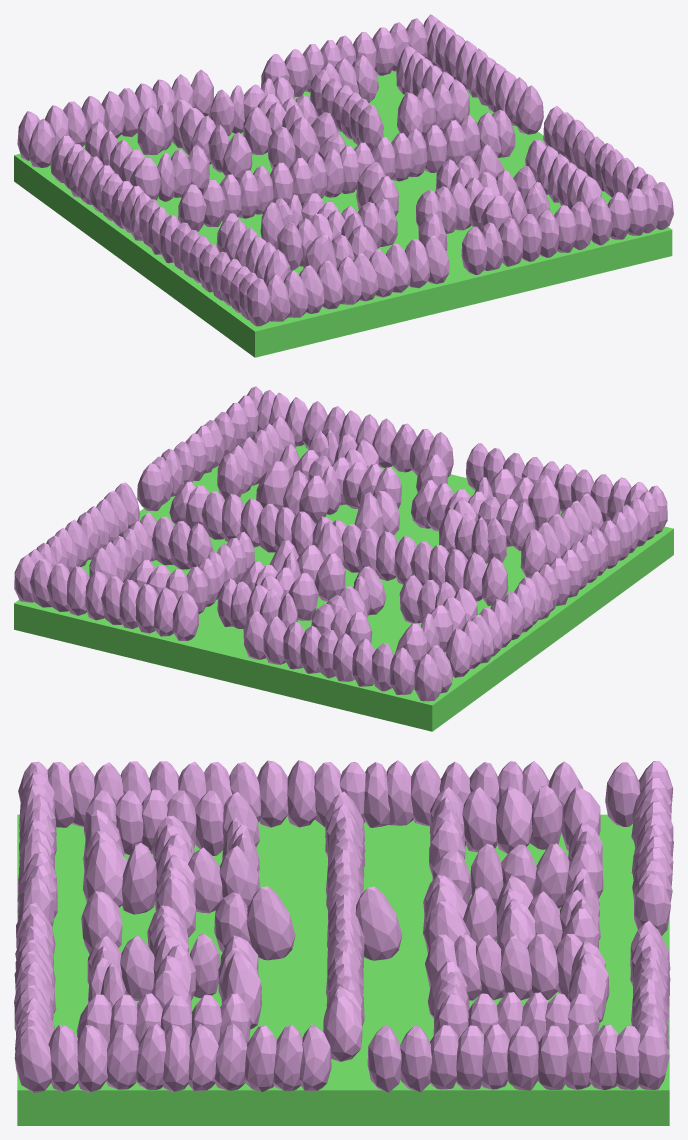
File: garden2.fbx
3 renders of one model, top to bottom at view 1: azimuth 30°, elevation 25°; view 2: azimuth 150°, elevation 25°; view 3: azimuth 270°, elevation 25°, orthographic. The views are drawn at different scales.
Visible parts, largest first — view 1: Icosphere.047, Ground.003; view 2: Icosphere.047, Ground.003; view 3: Icosphere.047, Ground.003.
Part boxes in pixels (x1,y1,x2,y2): Icosphere.047: (17, 14, 673, 326); Ground.003: (14, 70, 672, 357); Icosphere.047: (14, 386, 667, 701); Ground.003: (14, 444, 673, 731); Icosphere.047: (14, 760, 673, 1093); Ground.003: (17, 814, 669, 1125).
Size of the model in its own units: 2256 by 392 by 2226.
